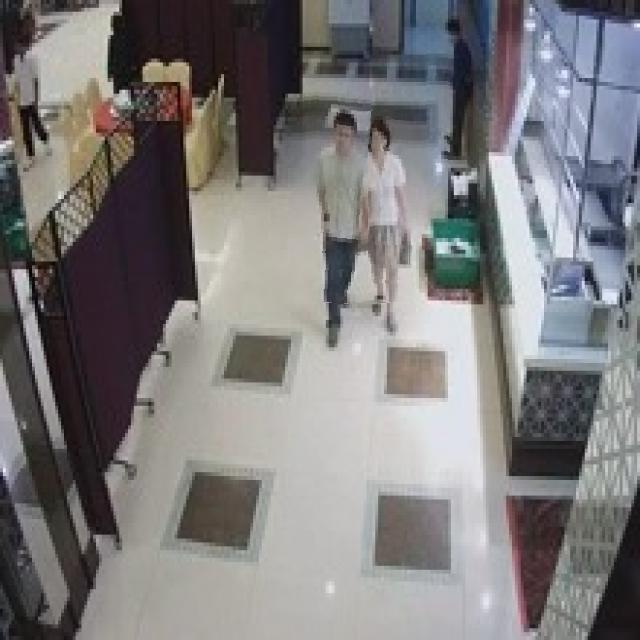normal: (304, 85, 368, 304), (357, 111, 411, 303), (426, 9, 483, 166)
